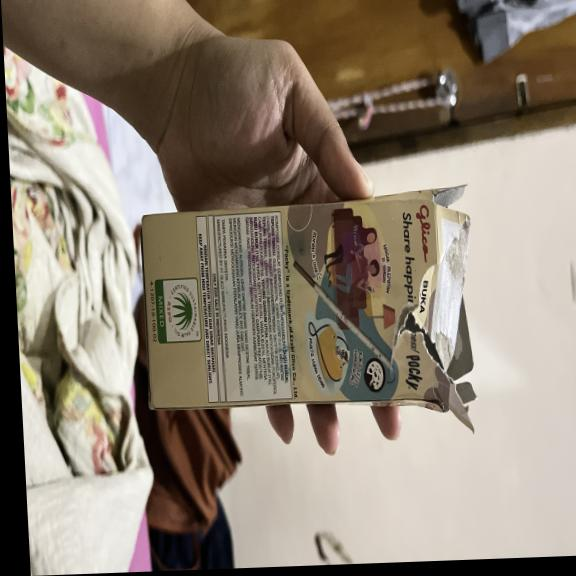Kertas: (137, 188, 445, 415)
